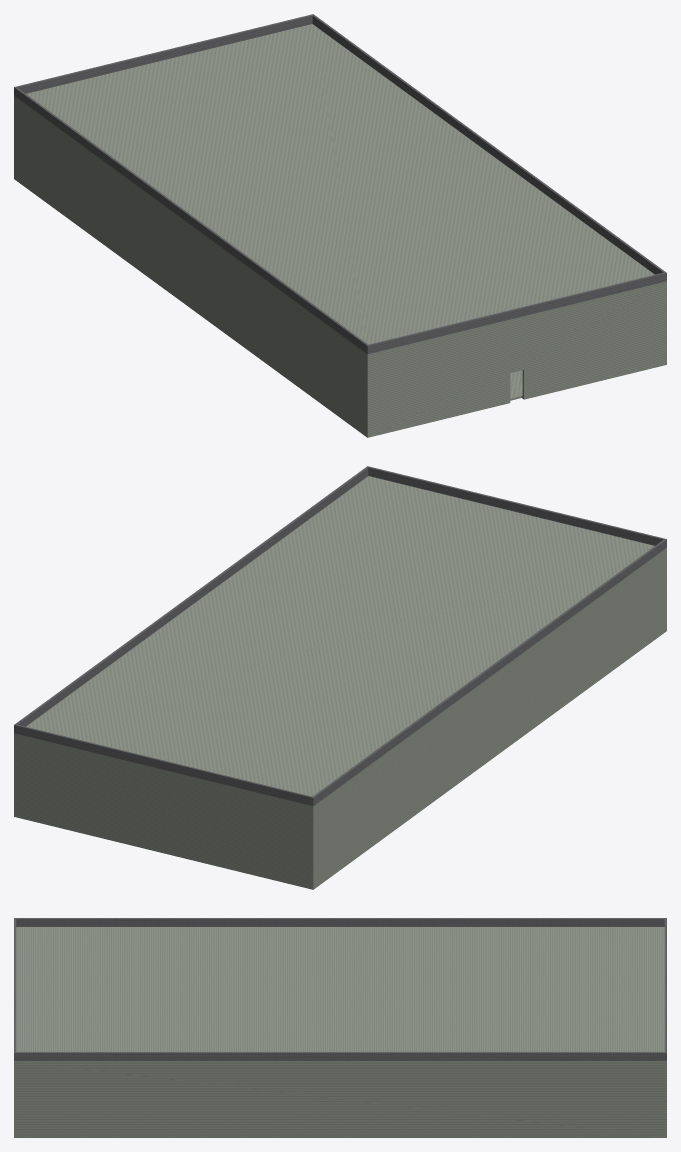
Rendered from small_factory_mill.glb.
3 renders of one model, top to bottom at view 1: azimuth 30°, elevation 25°; view 2: azimuth 150°, elevation 25°; view 3: azimuth 270°, elevation 25°, orthographic. The views are drawn at different scales.
Parts seen in each view (by area): view 1: small_factory_mill-col; view 2: small_factory_mill-col; view 3: small_factory_mill-col.
Part boxes in pixels (x1,y1,x2,y2): small_factory_mill-col: [14, 14, 666, 437]; small_factory_mill-col: [14, 466, 666, 889]; small_factory_mill-col: [14, 918, 666, 1137].
Size of the model in its own units: 22 by 6.46 by 45.
Materials: 2 (2 with a texture image).
